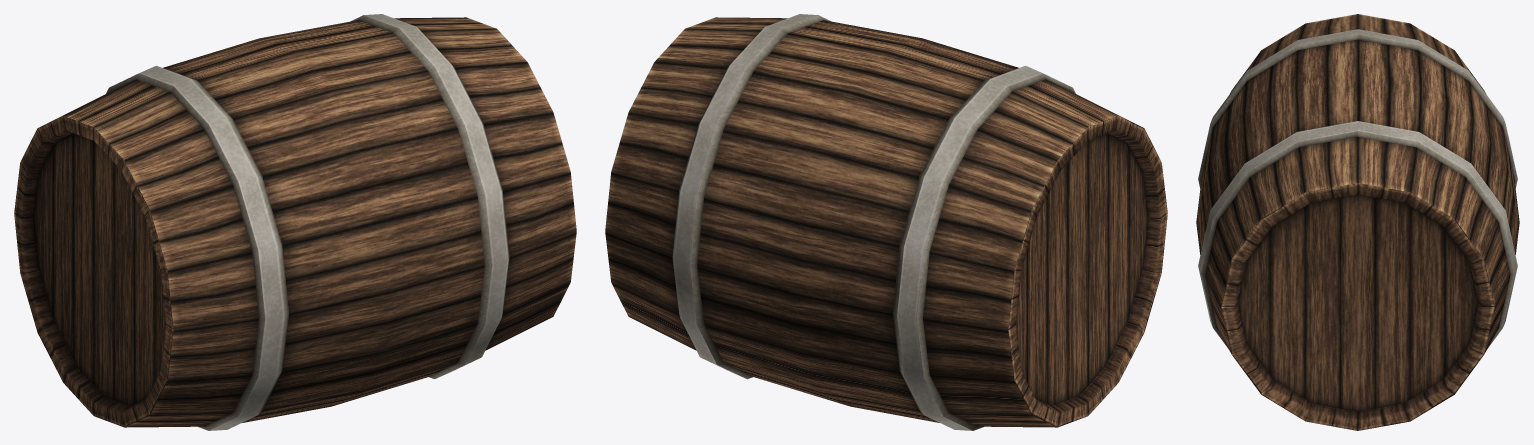
The model's file is barrel_free.fbx.
3 renders of one model, left to right at view 1: azimuth 30°, elevation 25°; view 2: azimuth 150°, elevation 25°; view 3: azimuth 270°, elevation 25°, orthographic. The views are drawn at different scales.
Visible parts, largest first — view 1: pCylinder4; view 2: pCylinder4; view 3: pCylinder4.
Boxes of the visible parts, bbox=[...] form: pCylinder4: bbox=[14, 14, 576, 430]; pCylinder4: bbox=[605, 14, 1167, 430]; pCylinder4: bbox=[1196, 14, 1519, 430].
Bounding box in the file's own units: 249 × 201 × 201.
1 material, 1 textured.
